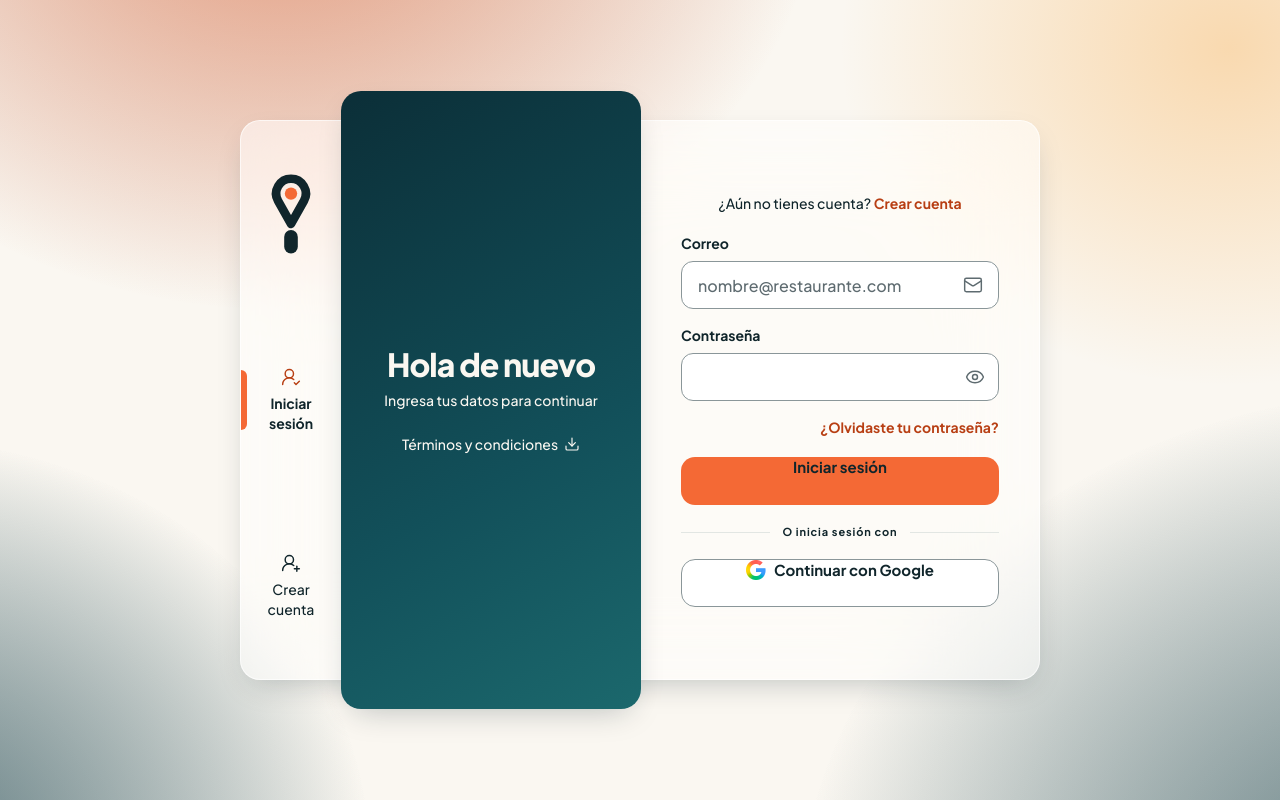
Test: LoginPage › shows the Google sign-in message returned by auth
This screenshot has width=1280, height=800.
Step 1. Click the button "Continuar con Google" → (854, 570), box x1=681 y1=559 x2=999 y2=607
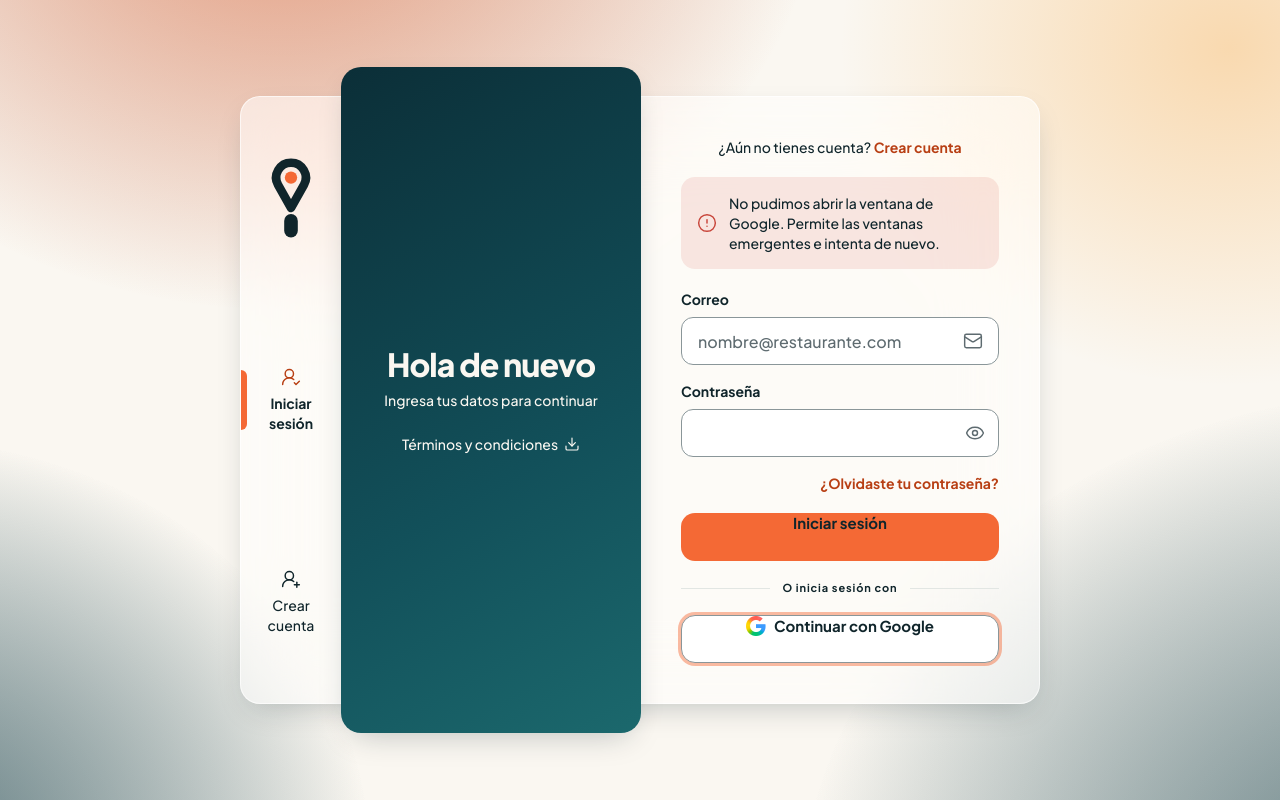
expect the message shows "No pudimos abrir la ventana de Google.": met, box x1=729 y1=194 x2=940 y2=252
